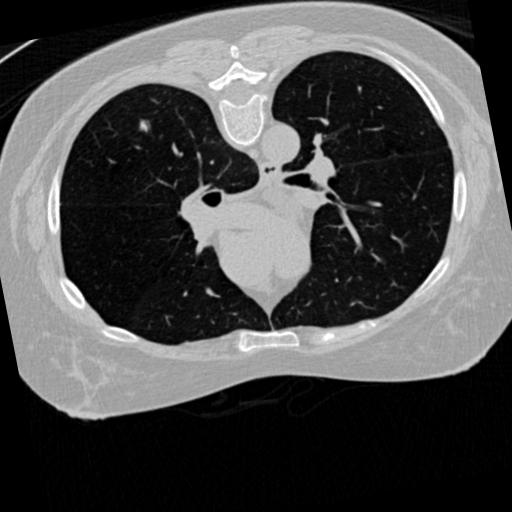nodule: (135, 118, 153, 136)
